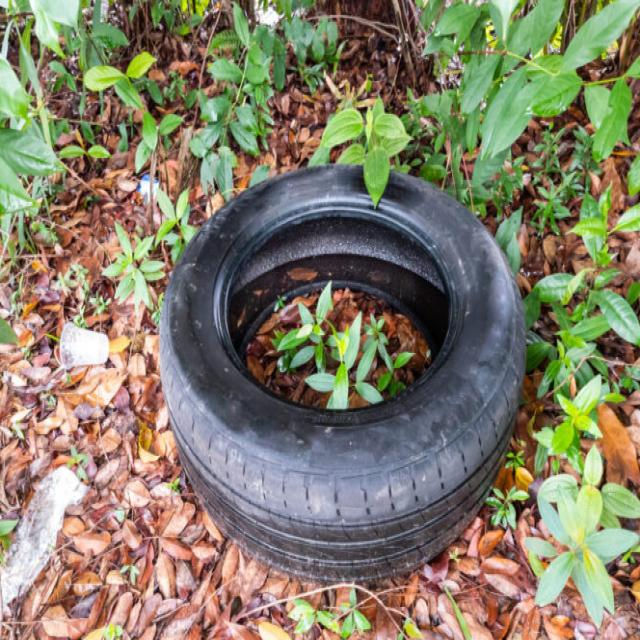Breeding Place: (163, 166, 528, 576)
